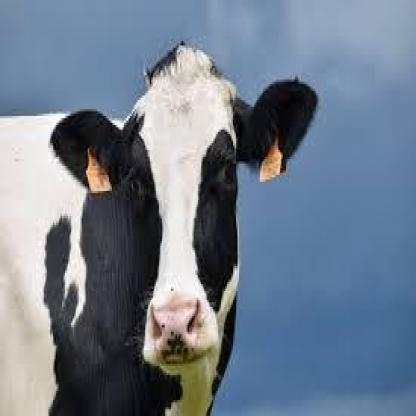cow: (0, 41, 321, 414)
